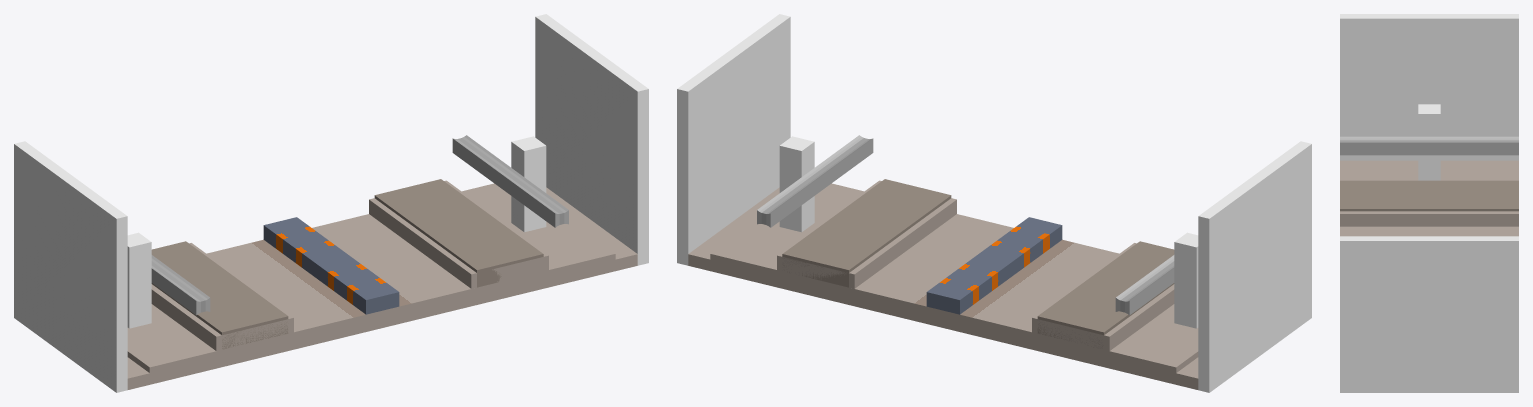
The model's file is agtraillr.obj.
The picture shows the model from 3 angles, left to right: view 1: azimuth 30°, elevation 25°; view 2: azimuth 150°, elevation 25°; view 3: azimuth 270°, elevation 25°; orthographic projection. The views are drawn at different scales.
Visible parts, largest first — view 1: rail; view 2: rail; view 3: rail.
Boxes of the visible parts, box(x1,y1,x2,y2) form: rail: box(14, 14, 648, 392); rail: box(677, 14, 1311, 392); rail: box(1340, 14, 1518, 392).
Bounding box in the file's own units: 3 × 0.9375 × 1.
Materials: 1 (1 with a texture image).
